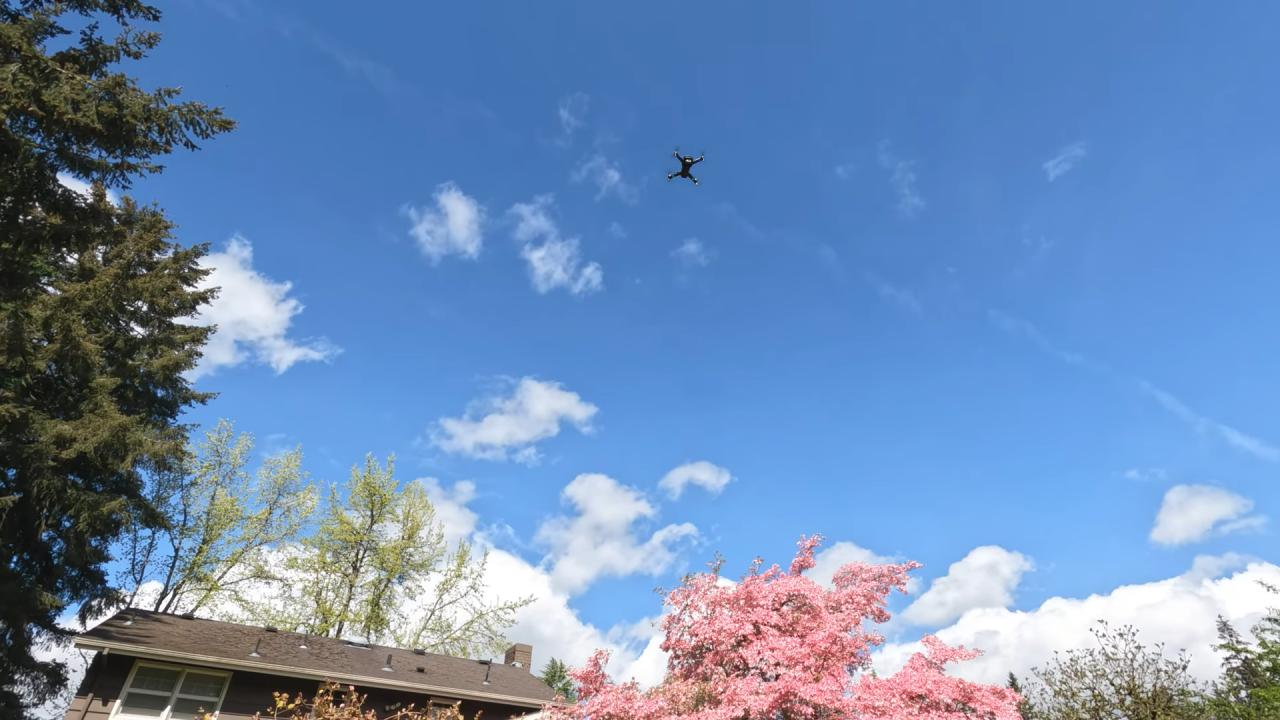Drone: (656, 140, 713, 196)
